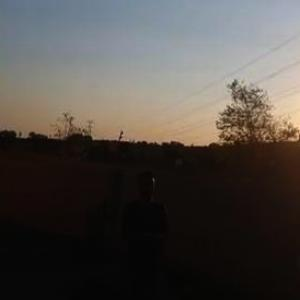follow: (116, 167, 172, 299)
